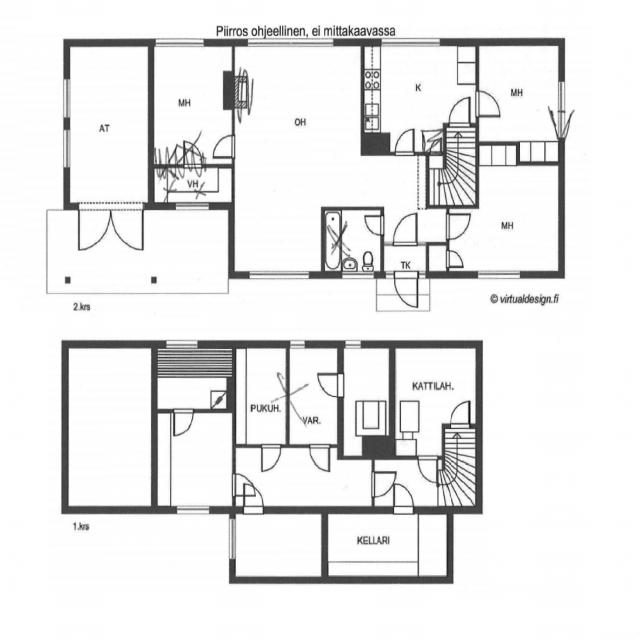door: (78, 203, 111, 249), (111, 203, 143, 249), (394, 271, 418, 306), (393, 214, 417, 246), (558, 111, 586, 138), (536, 111, 564, 138), (393, 483, 413, 514), (244, 483, 263, 514), (449, 98, 470, 126), (319, 373, 343, 397), (476, 91, 499, 116), (446, 214, 469, 239), (310, 444, 330, 472), (450, 401, 470, 428), (174, 409, 193, 437), (372, 472, 394, 496), (418, 456, 437, 482), (395, 129, 414, 155), (262, 444, 280, 471), (213, 135, 234, 158), (232, 474, 253, 495), (365, 216, 384, 235), (446, 250, 463, 268)
